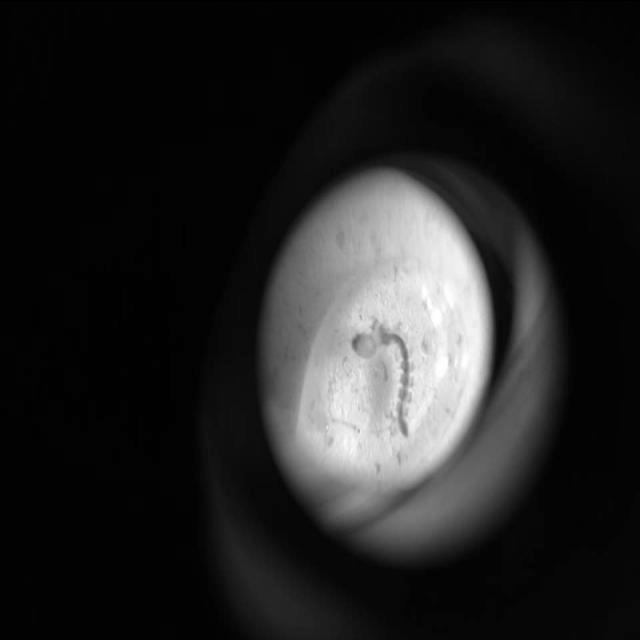larvas: (353, 322, 412, 440)
